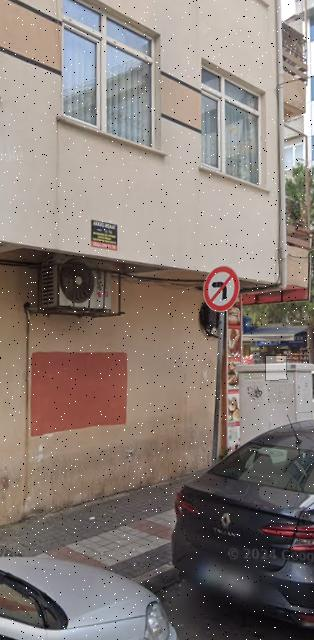leftturnsareforbidden: (205, 268, 240, 310)
